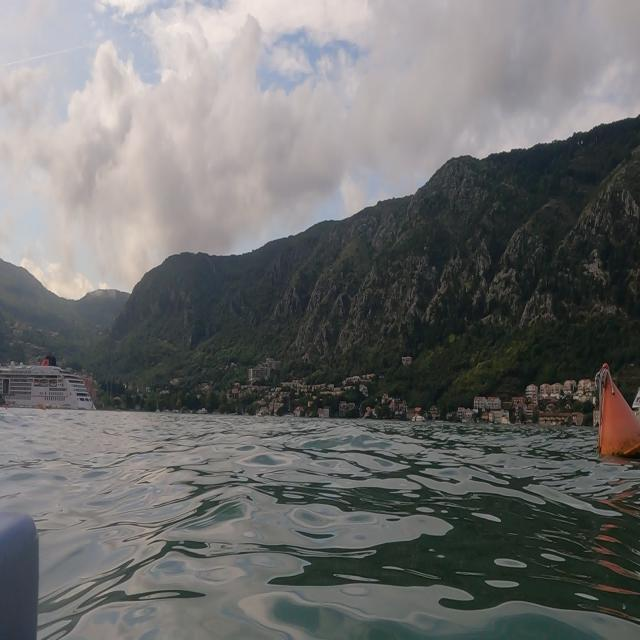boat: (0, 348, 106, 430)
buoy: (591, 360, 639, 465)
